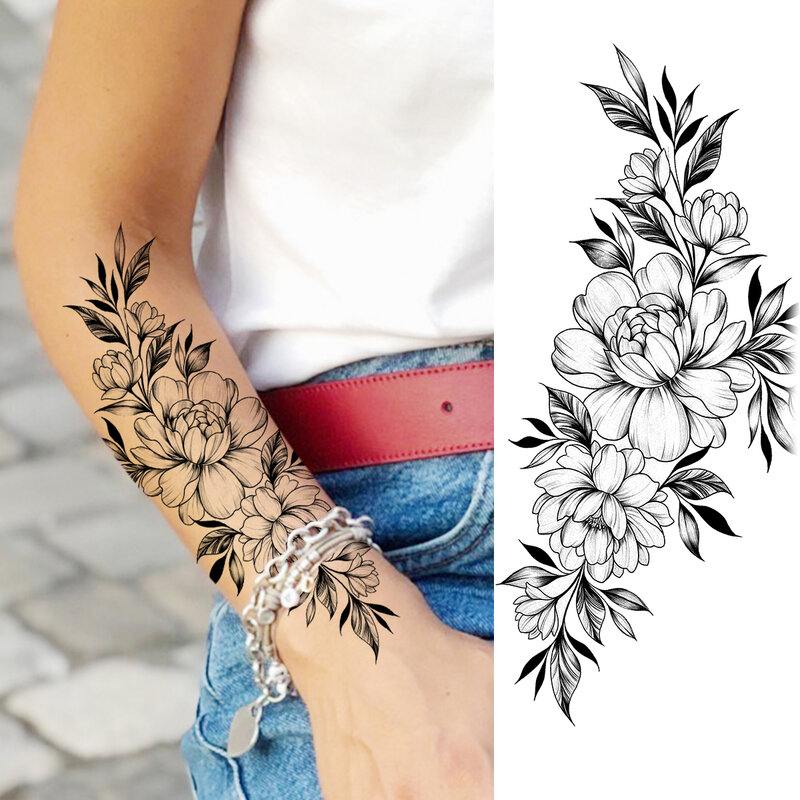Table: (446, 519, 704, 714)
